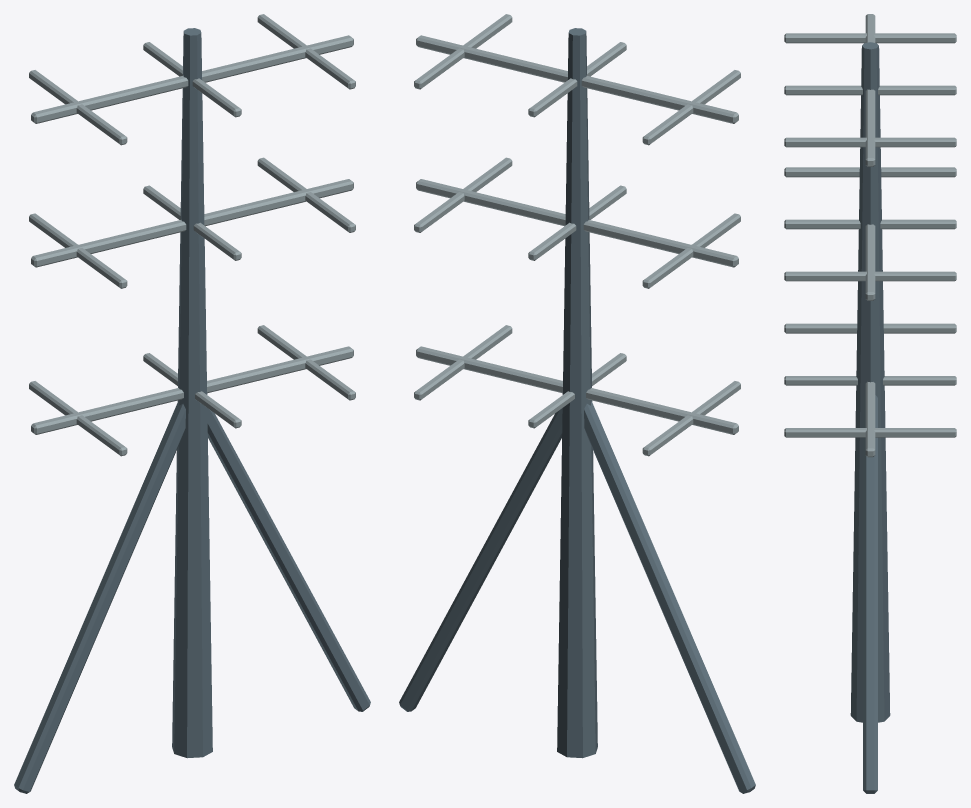
File: props-antenna.lod0.glb
The picture shows the model from 3 angles, left to right: view 1: azimuth 30°, elevation 25°; view 2: azimuth 150°, elevation 25°; view 3: azimuth 270°, elevation 25°; orthographic projection. The views are drawn at different scales.
Parts seen in each view (by area): view 1: props-antenna__body; view 2: props-antenna__body; view 3: props-antenna__body.
Boxes of the visible parts, x1,y1,x2,y2 form: props-antenna__body: (14,14,370,793); props-antenna__body: (399,14,755,793); props-antenna__body: (784,14,956,793).
Size of the model in its own units: 1.54 by 3.01 by 0.7.
